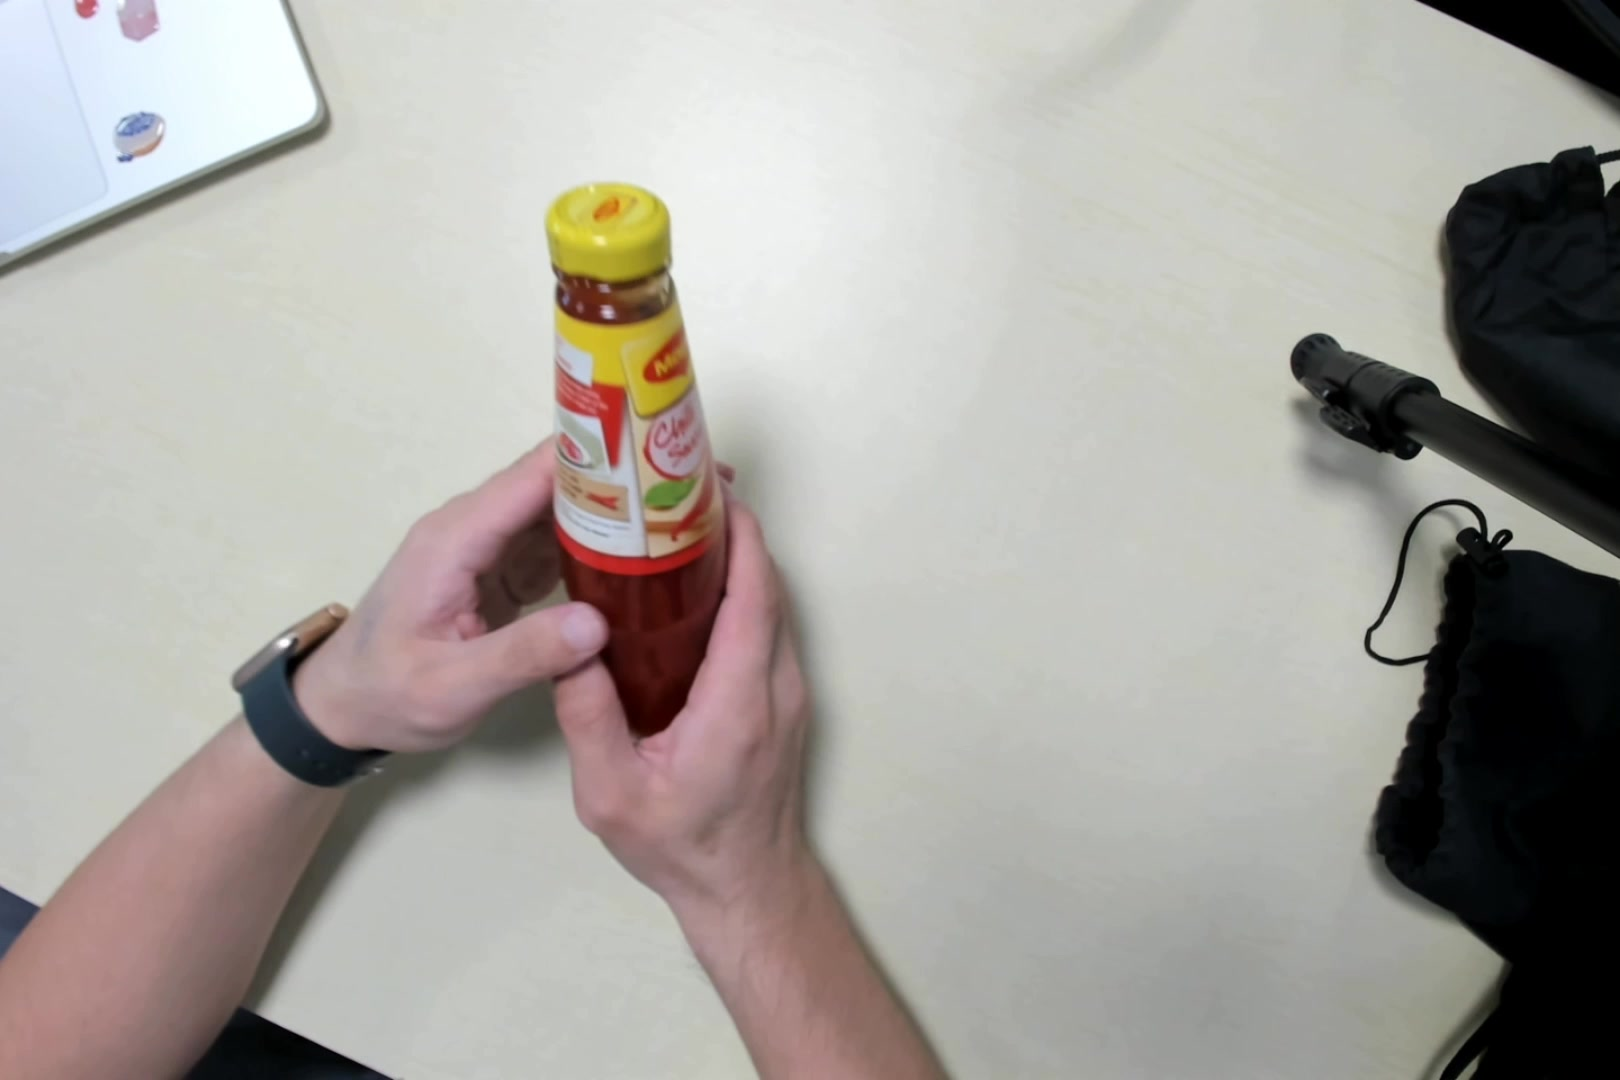KetchupChillSauce_300-399g_Halal_NonHealthy: (542, 180, 733, 730)
